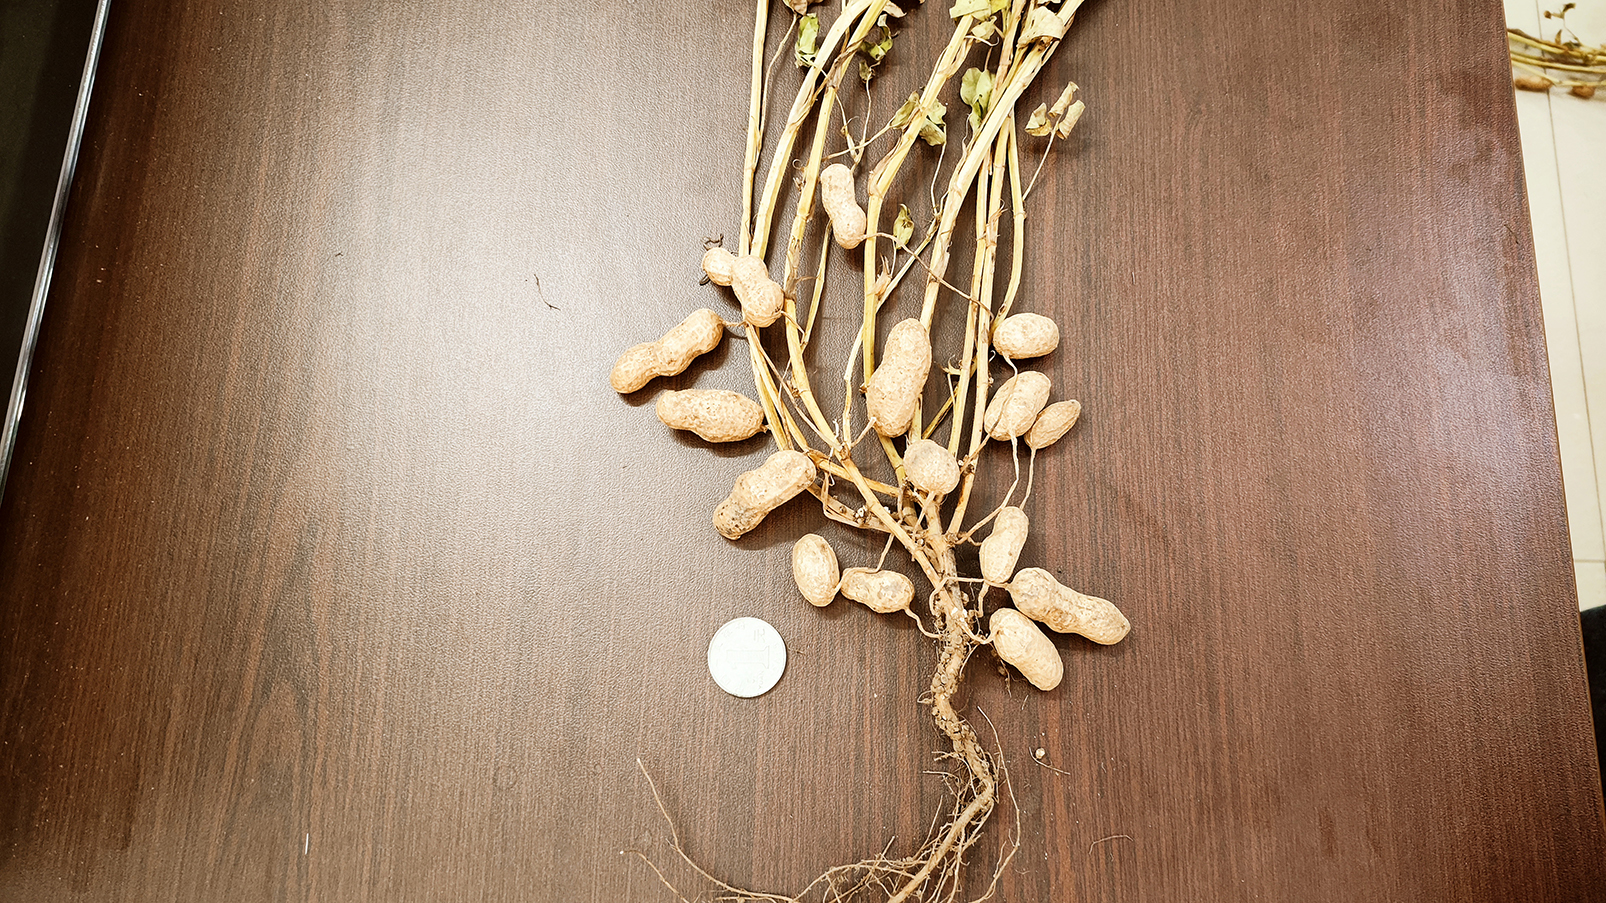h: (1010, 566, 1131, 645), (609, 309, 722, 393), (715, 450, 818, 541), (866, 318, 932, 439), (702, 246, 784, 327), (657, 385, 765, 443), (988, 609, 1062, 691), (985, 369, 1050, 440), (979, 505, 1031, 585), (818, 163, 865, 248), (902, 438, 962, 497), (841, 567, 916, 613), (792, 533, 839, 604), (993, 314, 1060, 361), (1025, 399, 1083, 449)
